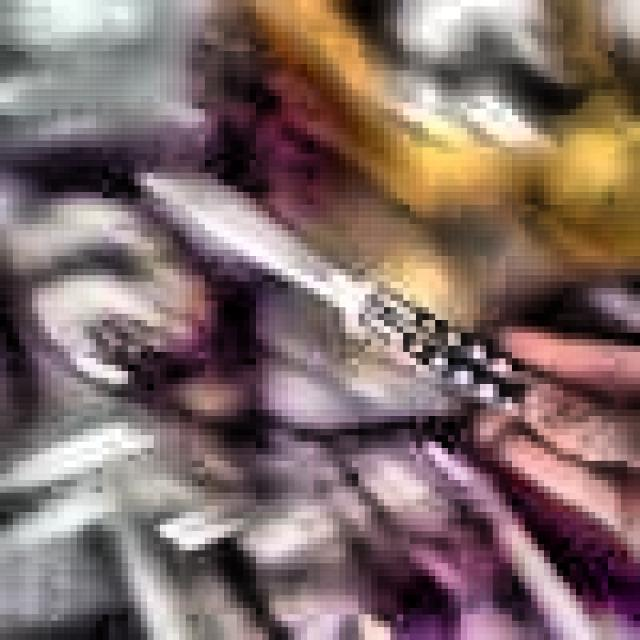knife: (138, 175, 537, 421)
